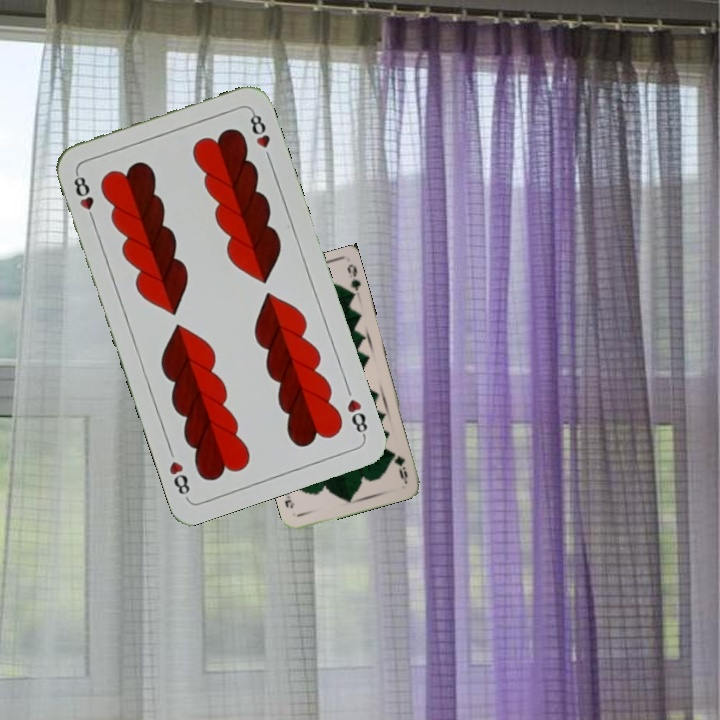G9: (392, 451, 410, 483)
H8: (69, 168, 98, 226), (343, 395, 370, 440)
